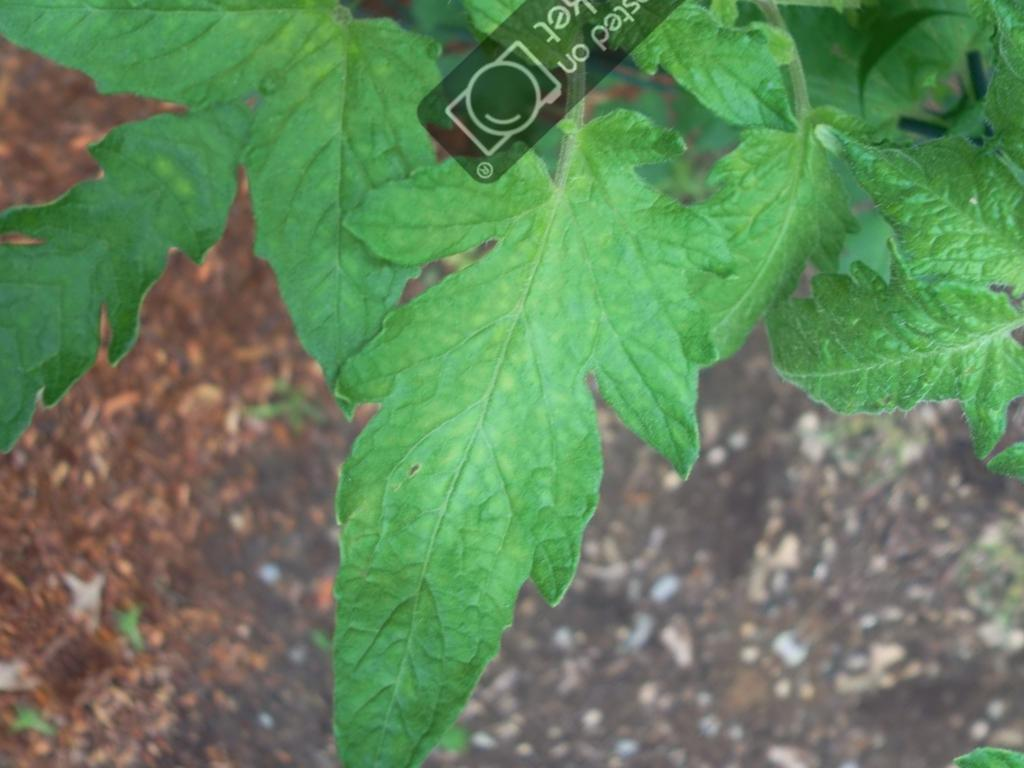Tomato mold leaf: (29, 28, 877, 768)
